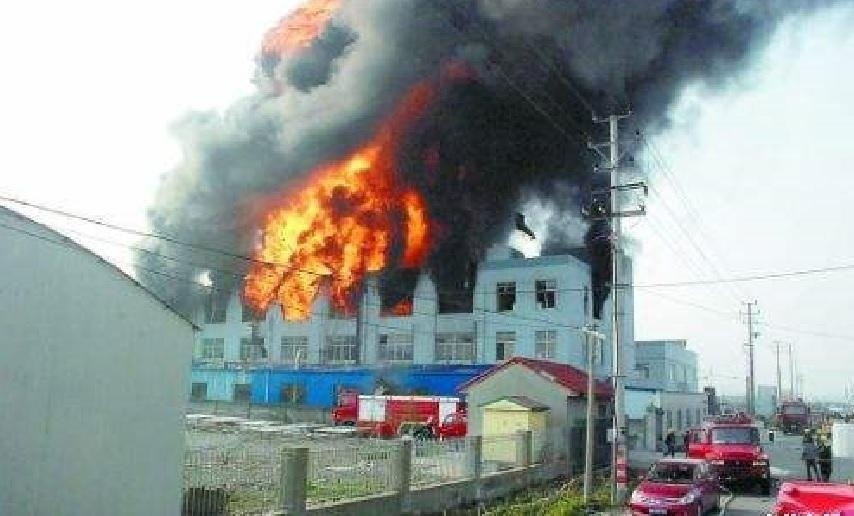fire: (245, 68, 433, 319), (264, 0, 340, 48)
